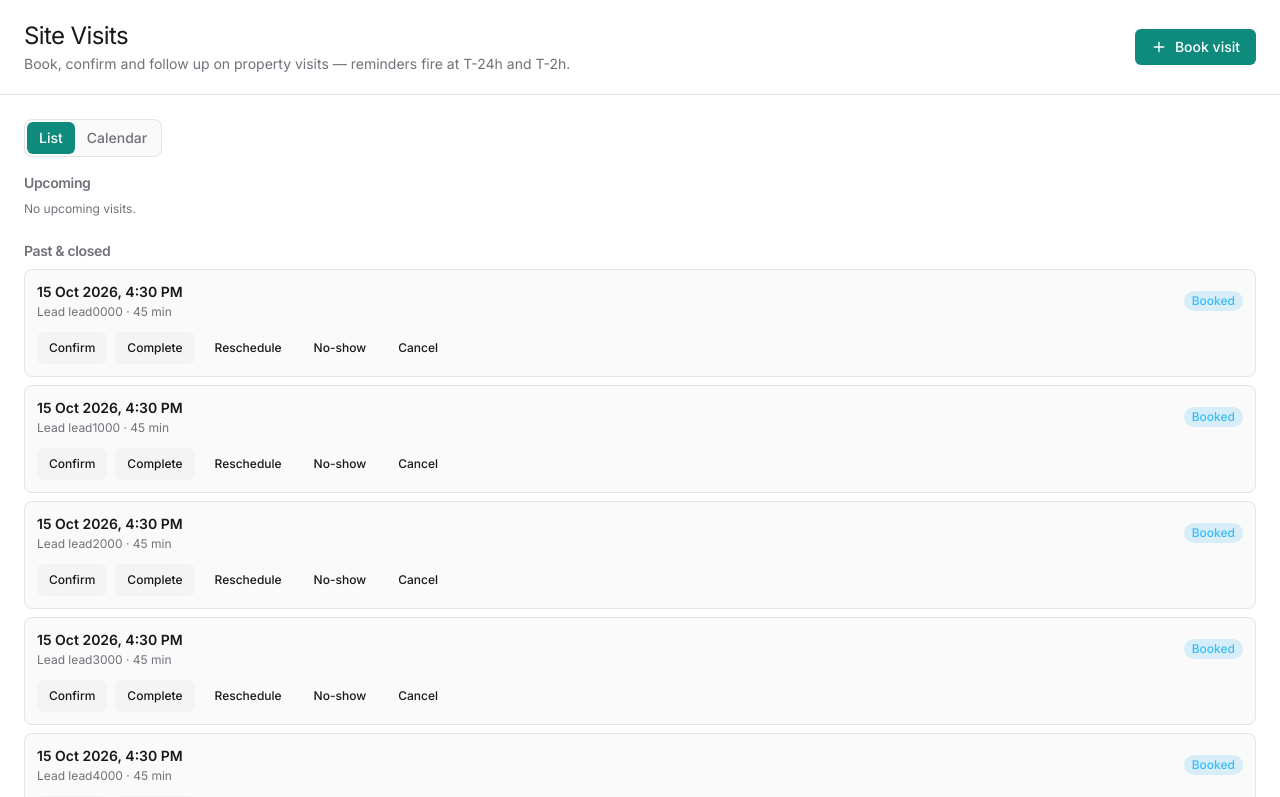
it: SiteVisitsPage calendar view › caps a busy day at three chips and counts the rest
This screenshot has width=1280, height=797.
Click the button "Calendar" at (117, 138), box left=75, top=122, right=159, bottom=154
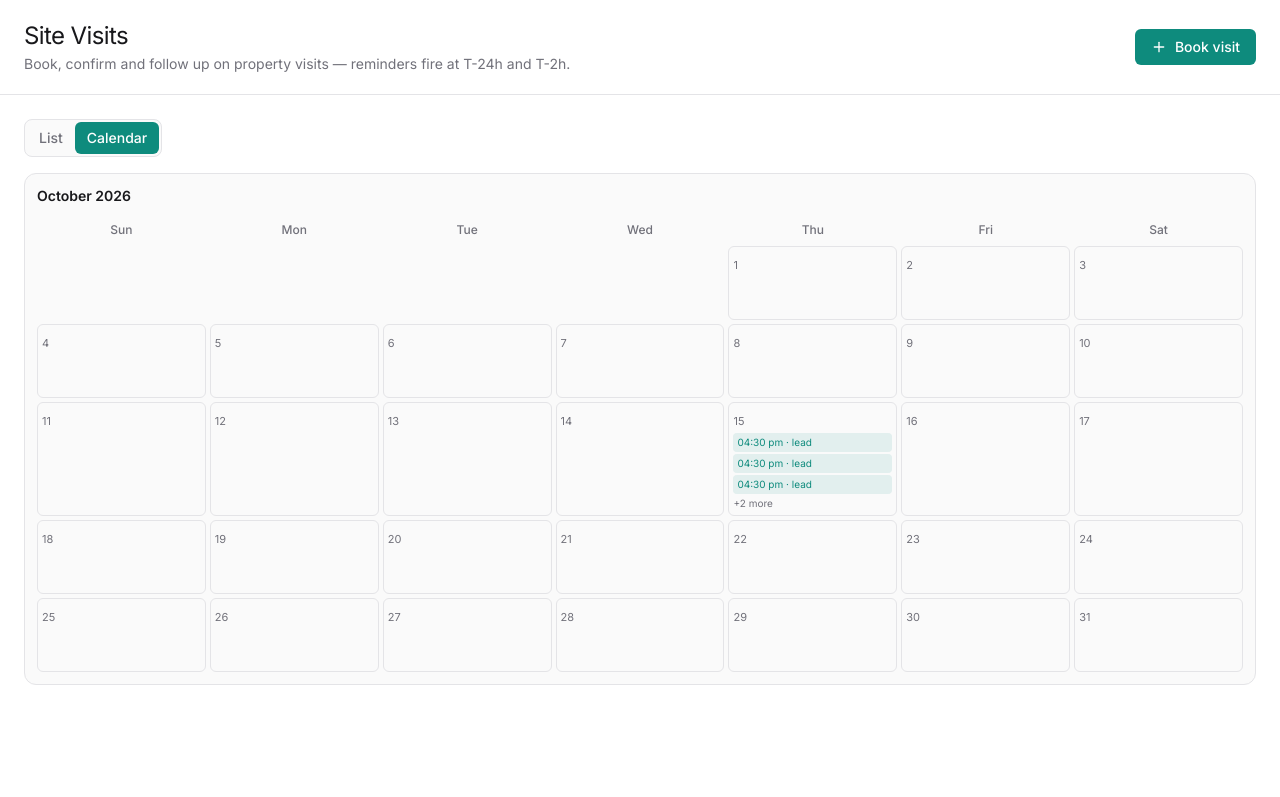
Check: the text "+2 more" is shown, box left=733, top=497, right=773, bottom=509
